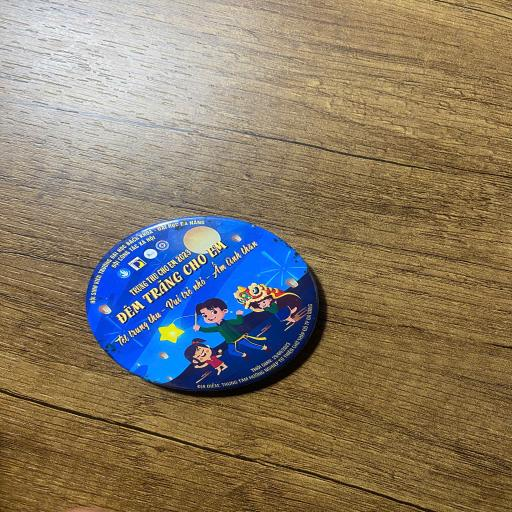HH: (84, 215, 323, 396)
